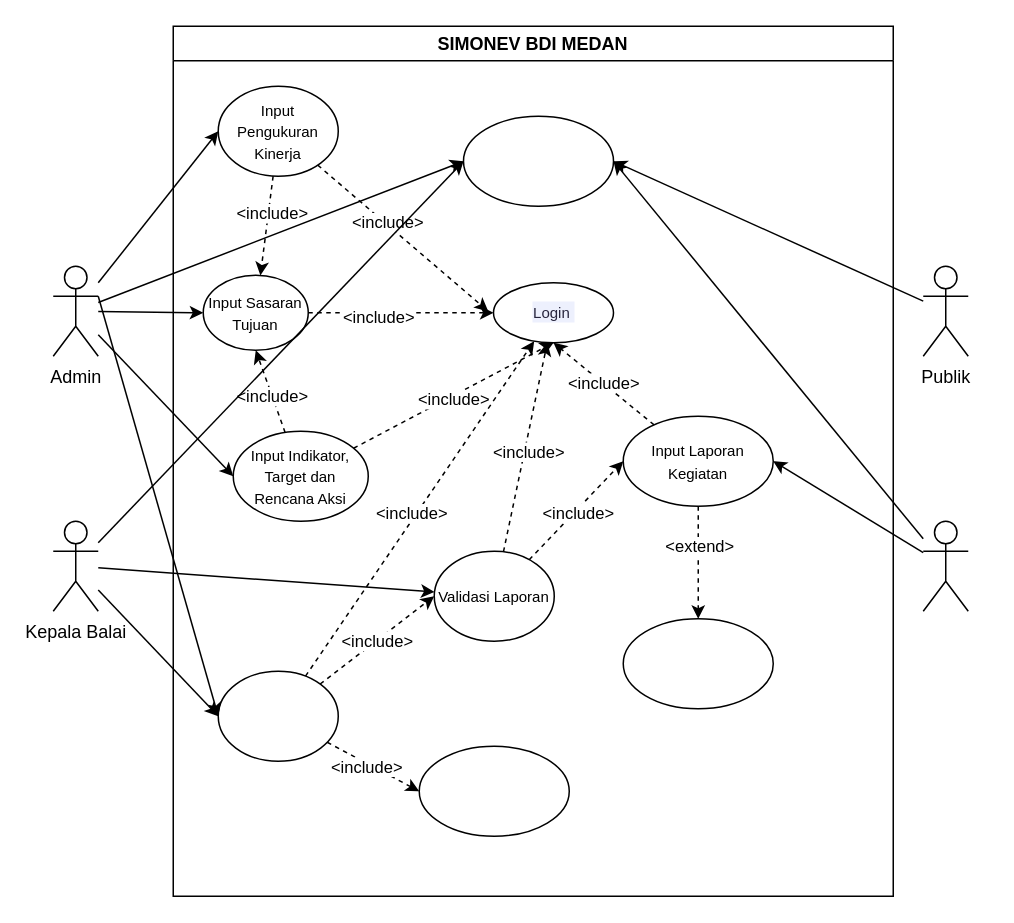
This 1014x923 diagram has some shape labels left out. Each missing label, with the centre of its shape:
Cetak Laporan Kegiatan: the point at 697,663
Cetak Laporan Triwulan/Tahunan: the point at 493,790
Dashboard Publik: the point at 538,160
Monitoring Kinerja: the point at 277,715
Pelaksana: the point at 945,565
